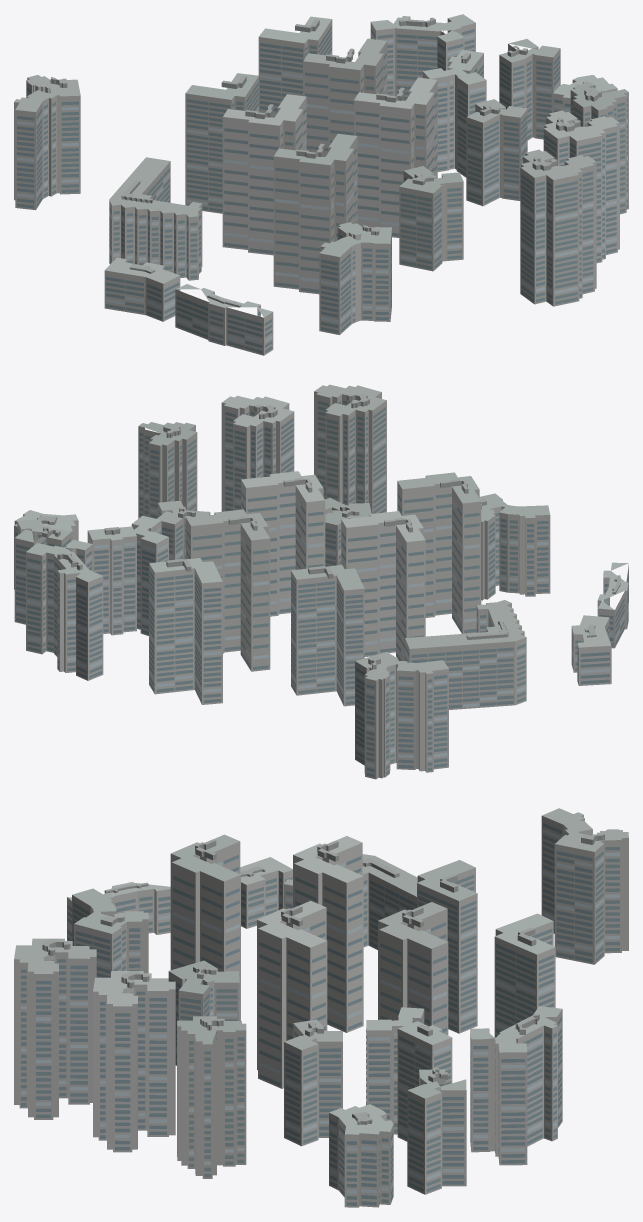
Rendered from apt-a10023508.glb.
3 views of the same model, one above another, from view 1: azimuth 30°, elevation 25°; view 2: azimuth 150°, elevation 25°; view 3: azimuth 270°, elevation 25° (orthographic). The views are drawn at different scales.
Parts seen in each view (by area): view 1: apt-a10023508; view 2: apt-a10023508; view 3: apt-a10023508.
Part boxes in pixels (x1,y1,x2,y2): apt-a10023508: [14, 14, 628, 355]; apt-a10023508: [14, 384, 628, 779]; apt-a10023508: [14, 808, 628, 1207].
Size of the model in its own units: 301 by 71 by 255.
